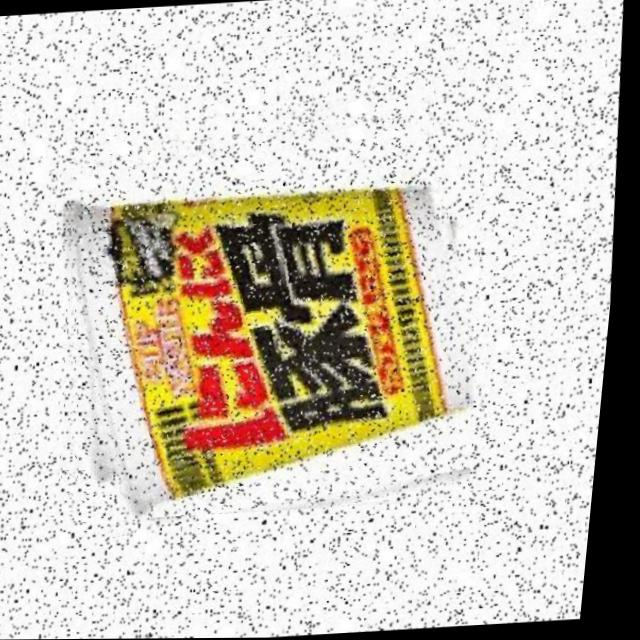Miscellaneous: (40, 84, 511, 524)
